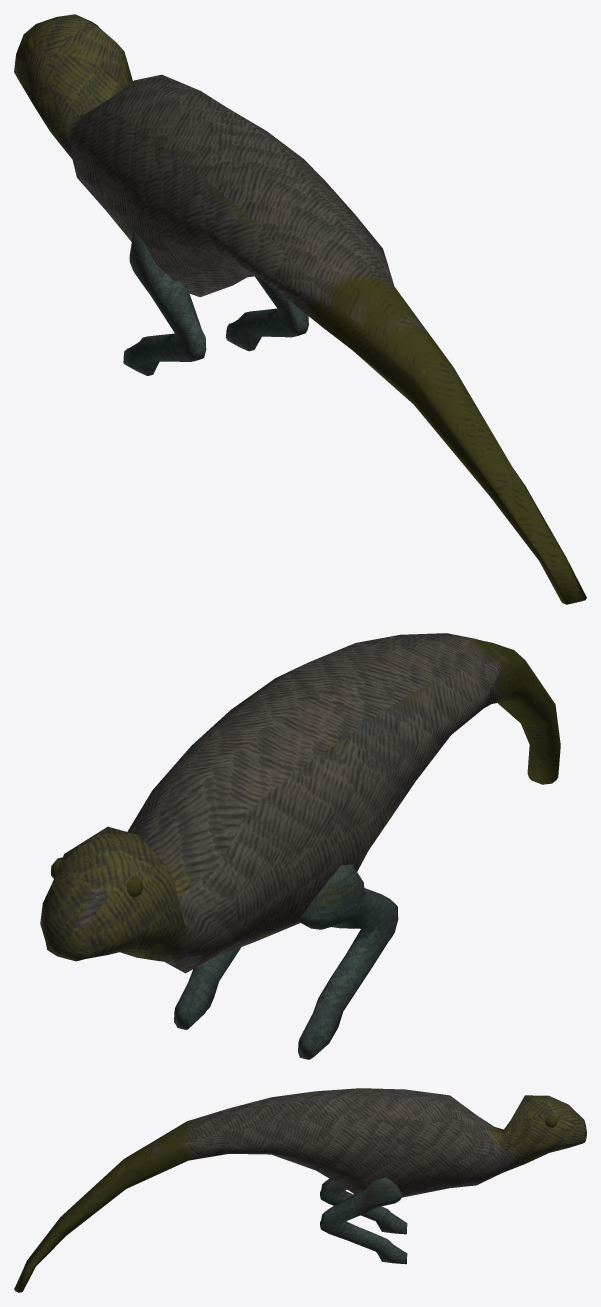
The model's file is Pisanosaurus_Model.FBX.
3 views of the same model, one above another, from view 1: azimuth 30°, elevation 25°; view 2: azimuth 150°, elevation 25°; view 3: azimuth 270°, elevation 25° (orthographic). The views are drawn at different scales.
Parts seen in each view (by area): view 1: Pisanosaurus_Body; view 2: Pisanosaurus_Body; view 3: Pisanosaurus_Body.
Boxes of the visible parts, x1,y1,x2,y2 form: Pisanosaurus_Body: (14, 14, 586, 604); Pisanosaurus_Body: (40, 633, 560, 1059); Pisanosaurus_Body: (14, 1088, 586, 1292).
Bounding box in the file's own units: 322 × 584 × 1709.
